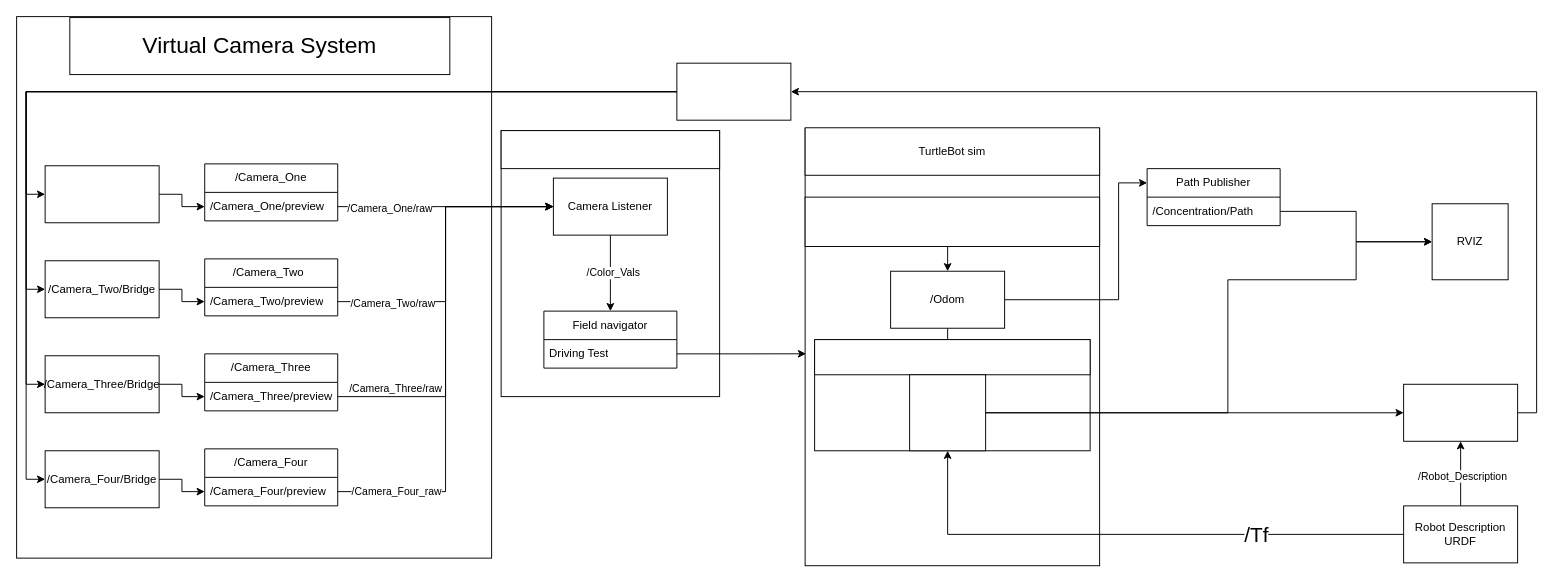
Some shapes in this 1561 by 582 pixel diagram are drawn without their labels. Here are the shapes that lost their labels. From the top down, the centre of each, then its label:
pixel 733 91: Simulation Bridge
pixel 610 149: Py_Sub Node
pixel 101 194: /Camera_One/Bridge
pixel 952 221: /Motion_Control
pixel 952 357: Robot State Publisher
pixel 947 412: /Robot_State
pixel 1460 412: Gazebo Simulation
